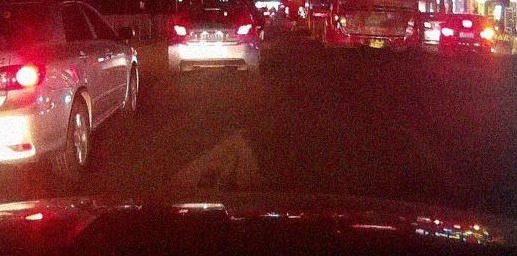L_light: (172, 24, 188, 37), (441, 27, 453, 36)
R_light: (236, 24, 253, 35), (481, 29, 493, 38)
T_light: (204, 7, 220, 11), (462, 21, 472, 27)
night-no: (168, 3, 259, 76)
night-right: (439, 14, 494, 58)
